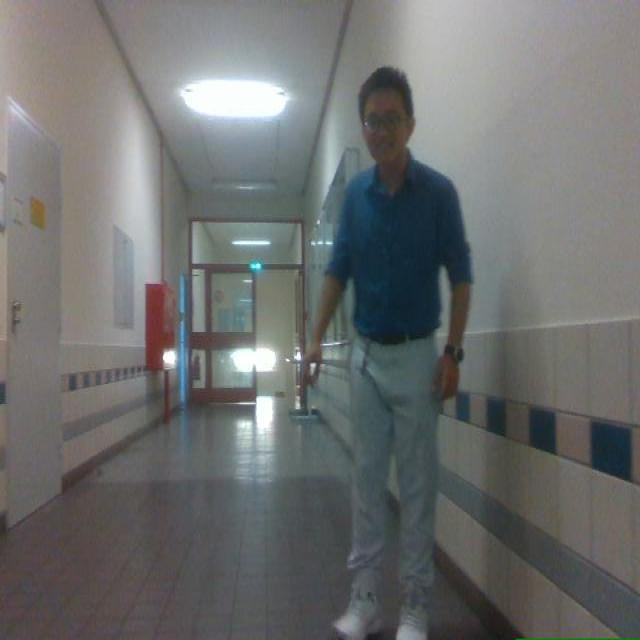humans: (304, 67, 471, 639)
